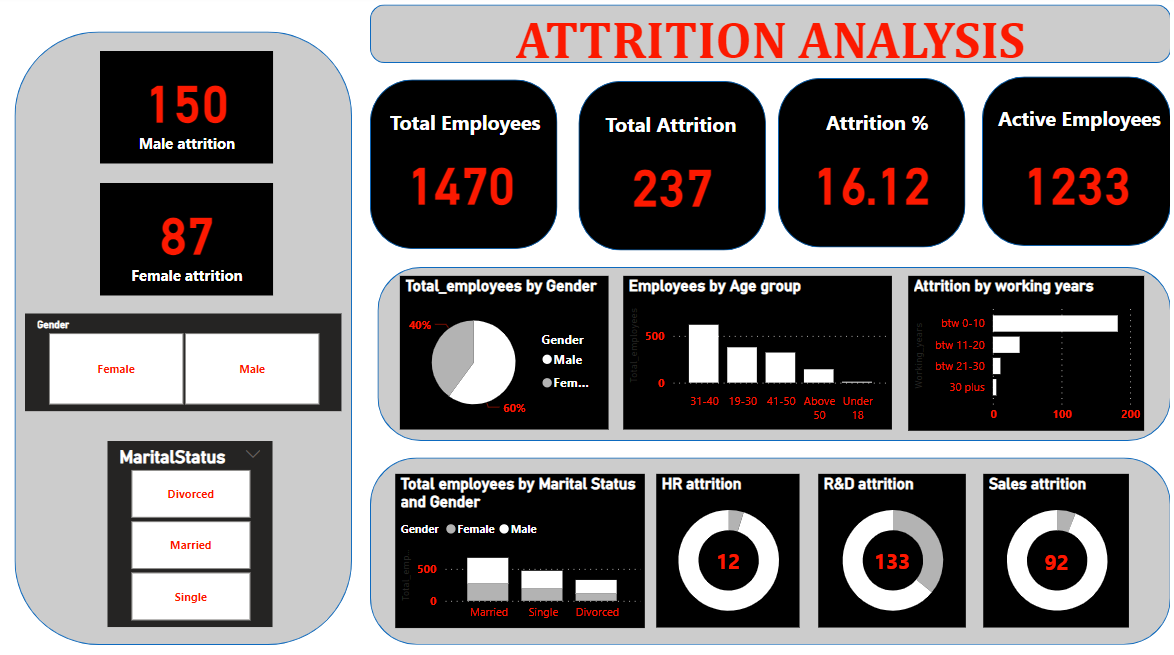

This screenshot's page, from the dashboard's own definition file:
{"tool":"powerbi","page":{"name":"Overview","canvas":[1280,720],"ordinal":0},"visuals":[{"type":"shape","box":[17.8,40.4,364,661.8],"z":0},{"type":"card","fields":{"Values":["Measures (2).Male_attrition"]},"box":[109.7,61.6,186.6,121.2],"z":1000},{"type":"card","fields":{"Values":["Measures (2).Female_attrition"]},"box":[109.7,203.9,186.6,121.2],"z":2000},{"type":"shape","box":[401.3,92.2,202.2,182.8],"z":3000},{"type":"card","fields":{"Values":["Measures (2).Total_employees"]},"box":[432.9,155.8,130.8,90.4],"z":4000},{"type":"slicer","fields":{"Values":["HR_data.Gender"]},"box":[29.1,344.6,341.4,105.2],"z":5000},{"type":"slicer","fields":{"Values":["HR_data.MaritalStatus"]},"box":[118.1,482.2,178,200.6],"z":6000},{"type":"shape","box":[409.3,294.5,855.9,187.7],"z":7000},{"type":"shape","box":[401.1,500.5,863.7,202.1],"z":8000},{"type":"barChart","title":"Attrition by working years","fields":{"Category":["HR_data.Working_years"],"Y":["Measures (2).Total_attrition"]},"box":[982.1,304.2,254,166.7],"z":9000},{"type":"columnChart","title":"Employees by Age group","fields":{"Category":["HR_data.Age_group"],"Y":["Measures (2).Total_employees"]},"box":[674.7,304.2,289.6,165],"z":10000},{"type":"pieChart","fields":{"Category":["HR_data.Gender"],"Y":["Measures (2).Total_employees"]},"box":[433.6,304.2,224.9,165],"z":11000},{"type":"columnChart","title":"Total employees by Marital Status and Gender","fields":{"Category":["HR_data.MaritalStatus"],"Y":["Measures (2).Total_employees"],"Series":["HR_data.Gender"]},"box":[429.5,517.9,268.4,165.8],"z":12000},{"type":"donutChart","title":"HR attrition","fields":{"Y":["Measures (2).HR_attrition","Measures (2).Total_attrition"]},"box":[710.3,517.8,153.7,165],"z":13000},{"type":"donutChart","title":"R&D attrition","fields":{"Y":["Measures (2).R&D_attrition","Measures (2).Total_attrition"]},"box":[885,517.8,158.6,165],"z":14000},{"type":"donutChart","title":"Sales attrition","fields":{"Y":["Measures (2).Sales_attrition","Measures (2).Total_employees"]},"box":[1063,517.8,156.9,165],"z":15000},{"type":"shape","box":[626.2,93.8,202.2,182.8],"z":16000},{"type":"card","fields":{"Values":["Measures (2).Total_attrition"]},"box":[658,165.5,136.6,75],"z":17000},{"type":"shape","box":[841.3,90.6,202.2,182.8],"z":18000},{"type":"shape","box":[1062,88.5,203.9,182.8],"z":19000},{"type":"card","fields":{"Values":["Measures (2).Active_employees"]},"box":[1090.8,155.8,146.2,90.4],"z":20000},{"type":"card","fields":{"Values":["Measures (2).Attrition%"]},"box":[863.8,157.8,155.8,82.7],"z":21000},{"type":"textbox","box":[634.9,119.3,182.8,48.1],"z":22000},{"type":"textbox","box":[851.1,118.1,182.8,48.5],"z":23000},{"type":"textbox","box":[417.5,117.4,186.6,50],"z":24000},{"type":"textbox","box":[1065.8,113.5,200.1,42.3],"z":25000},{"type":"shape","box":[762.1,588.9,50.2,43.7],"z":26000},{"type":"shape","box":[928.7,584.1,71.2,55],"z":27000},{"type":"shape","box":[1116.4,582.5,50.2,59.9],"z":28000},{"type":"shape","box":[401.3,11.3,864,63.1],"z":29000}]}

Visuals, with their boxes in screenshot pixels (x1, y1, x2, y2), scaled from the page's 1280x720 canvas onto the 1174x655 screenshot:
shape: rect(16, 37, 350, 639)
card - Measures (2).Male_attrition: rect(101, 56, 272, 166)
card - Measures (2).Female_attrition: rect(101, 185, 272, 296)
shape: rect(368, 84, 554, 250)
card - Measures (2).Total_employees: rect(397, 142, 517, 224)
slicer - HR_data.Gender: rect(27, 313, 340, 409)
slicer - HR_data.MaritalStatus: rect(108, 439, 272, 621)
shape: rect(375, 268, 1160, 439)
shape: rect(368, 455, 1160, 639)
"Attrition by working years" barChart: rect(901, 277, 1134, 428)
"Employees by Age group" columnChart: rect(619, 277, 884, 427)
pieChart - HR_data.Gender x Measures (2).Total_employees: rect(398, 277, 604, 427)
"Total employees by Marital Status and Gender" columnChart: rect(394, 471, 640, 622)
"HR attrition" donutChart: rect(651, 471, 792, 621)
"R&D attrition" donutChart: rect(812, 471, 957, 621)
"Sales attrition" donutChart: rect(975, 471, 1119, 621)
shape: rect(574, 85, 760, 252)
card - Measures (2).Total_attrition: rect(604, 151, 729, 219)
shape: rect(772, 82, 957, 249)
shape: rect(974, 81, 1161, 247)
card - Measures (2).Active_employees: rect(1000, 142, 1135, 224)
card - Measures (2).Attrition%: rect(792, 144, 935, 219)
textbox: rect(582, 109, 750, 152)
textbox: rect(781, 107, 948, 152)
textbox: rect(383, 107, 554, 152)
textbox: rect(978, 103, 1161, 142)
shape: rect(699, 536, 745, 575)
shape: rect(852, 531, 917, 581)
shape: rect(1024, 530, 1070, 584)
shape: rect(368, 10, 1161, 68)
